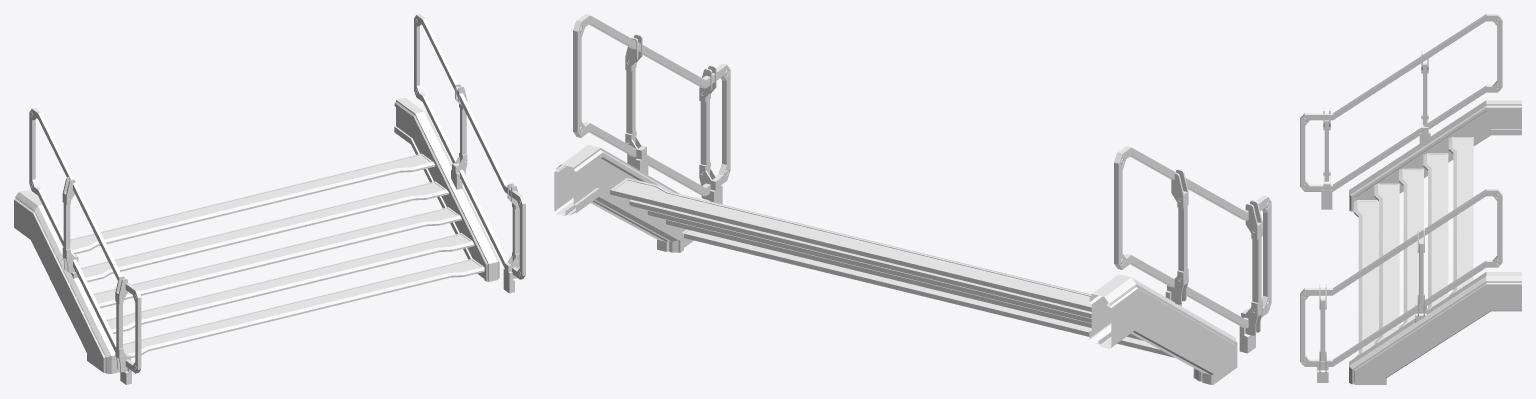
Rendered from KB3D_FTW_PropStair_A_grp.glb.
3 renders of one model, left to right at view 1: azimuth 30°, elevation 25°; view 2: azimuth 150°, elevation 25°; view 3: azimuth 270°, elevation 25°, orthographic. The views are drawn at different scales.
Parts seen in each view (by area): view 1: KB3D_FTW_PropStair_A_Main; view 2: KB3D_FTW_PropStair_A_Main; view 3: KB3D_FTW_PropStair_A_Main.
Part boxes in pixels (x1,y1,x2,y2): KB3D_FTW_PropStair_A_Main: (14,14,525,384); KB3D_FTW_PropStair_A_Main: (554,14,1271,384); KB3D_FTW_PropStair_A_Main: (1300,14,1521,384).
Size of the model in its own units: 5.14 by 2.55 by 2.66.
5 materials, 1 textured.
